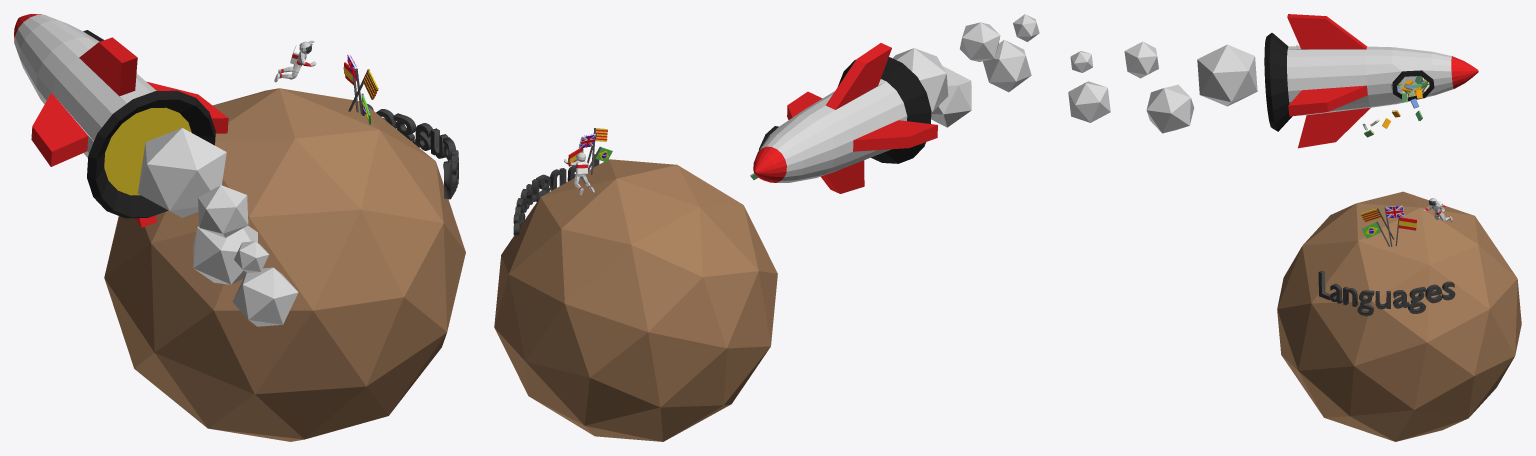
The model's file is languages.glb.
3 renders of one model, left to right at view 1: azimuth 30°, elevation 25°; view 2: azimuth 150°, elevation 25°; view 3: azimuth 270°, elevation 25°, orthographic. The views are drawn at different scales.
Parts seen in each view (by area): view 1: Icosphere, Cylinder.002, Icosphere.001, Icosphere.004, Icosphere.002, Text.018, Icosphere.003, Icosphere.005, Cube.017; view 2: Icosphere, Cylinder.002, Icosphere.001, Icosphere.004, Icosphere.002, Text.018, Icosphere.003; view 3: Icosphere, Cylinder.002, Icosphere.001, Text.018, Icosphere.002, Icosphere.004, Icosphere.003.
Part boxes in pixels (<box>): Icosphere: <box>104,88,465,441</box>; Cylinder.002: <box>14,14,228,227</box>; Icosphere.001: <box>138,128,226,217</box>; Icosphere.004: <box>232,267,298,326</box>; Icosphere.002: <box>193,225,257,284</box>; Text.018: <box>367,104,458,199</box>; Icosphere.003: <box>198,185,248,237</box>; Icosphere.005: <box>234,241,269,272</box>; Cube.017: <box>274,40,316,82</box>; Icosphere: <box>494,159,777,441</box>; Cylinder.002: <box>753,43,937,193</box>; Icosphere.001: <box>892,48,948,112</box>; Icosphere.004: <box>983,40,1031,92</box>; Icosphere.002: <box>931,66,971,127</box>; Text.018: <box>513,154,599,235</box>; Icosphere.003: <box>960,22,1000,61</box>; Icosphere: <box>1277,191,1521,441</box>; Cylinder.002: <box>1264,14,1478,148</box>; Icosphere.001: <box>1197,44,1257,106</box>; Text.018: <box>1318,271,1455,316</box>; Icosphere.002: <box>1146,84,1194,133</box>; Icosphere.004: <box>1068,81,1110,122</box>; Icosphere.003: <box>1124,41,1158,78</box>.
Size of the model in its own units: 12.32 by 12.47 by 15.3.
